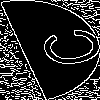C: (25, 25, 100, 73)
